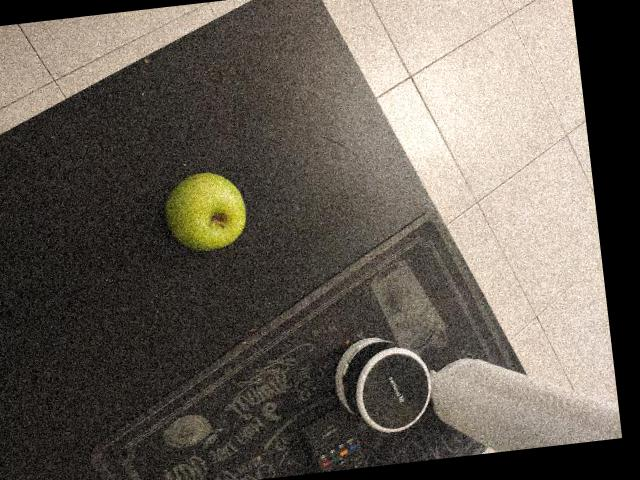apple: (322, 4, 424, 131)
